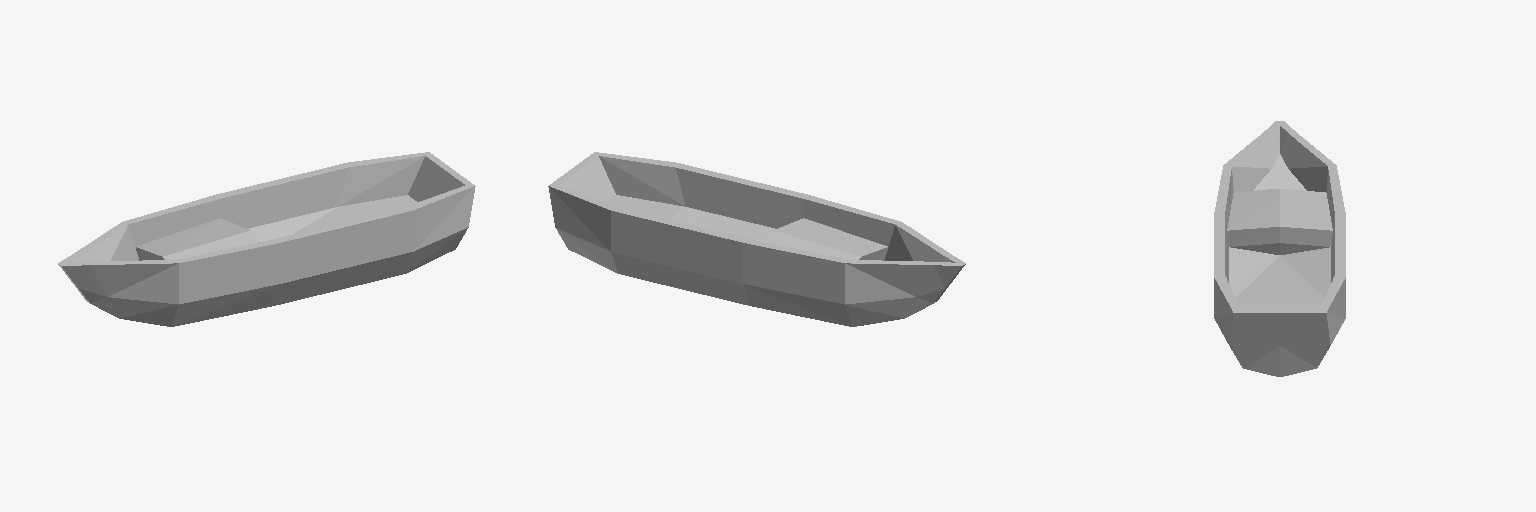
Rendered from boat.obj.
3 renders of one model, left to right at view 1: azimuth 30°, elevation 25°; view 2: azimuth 150°, elevation 25°; view 3: azimuth 270°, elevation 25°, orthographic.
Visible parts, largest first — view 1: Cube; view 2: Cube; view 3: Cube.
Boxes of the visible parts, box(x1,y1,x2,y2) form: Cube: box(58, 152, 475, 326); Cube: box(548, 152, 965, 326); Cube: box(1214, 121, 1345, 376).
Bounding box in the file's own units: 9.41 × 1.79 × 2.72.